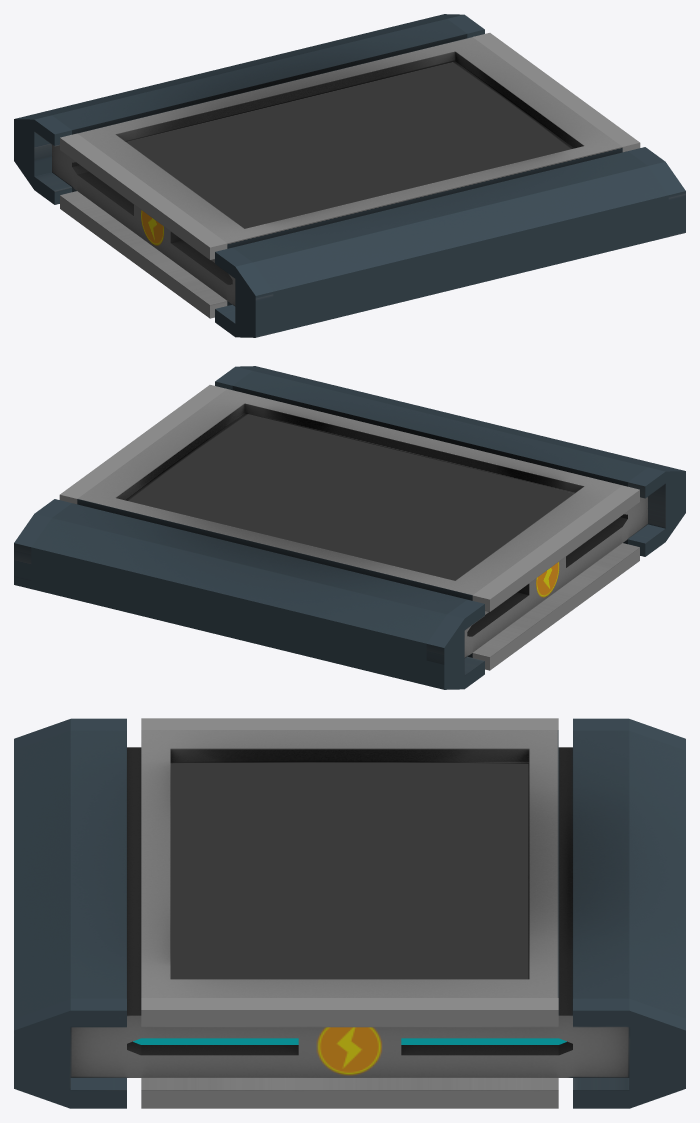
Rendered from Lift1.fbx.
3 renders of one model, top to bottom at view 1: azimuth 30°, elevation 25°; view 2: azimuth 150°, elevation 25°; view 3: azimuth 270°, elevation 25°, orthographic. The views are drawn at different scales.
Parts seen in each view (by area): view 1: pCube1; view 2: pCube1; view 3: pCube1.
Boxes of the visible parts, box(x1,y1,x2,y2) form: pCube1: box(14, 14, 685, 337); pCube1: box(14, 366, 685, 689); pCube1: box(14, 718, 685, 1108).
Bounding box in the file's own units: 104 × 16.38 × 101.
